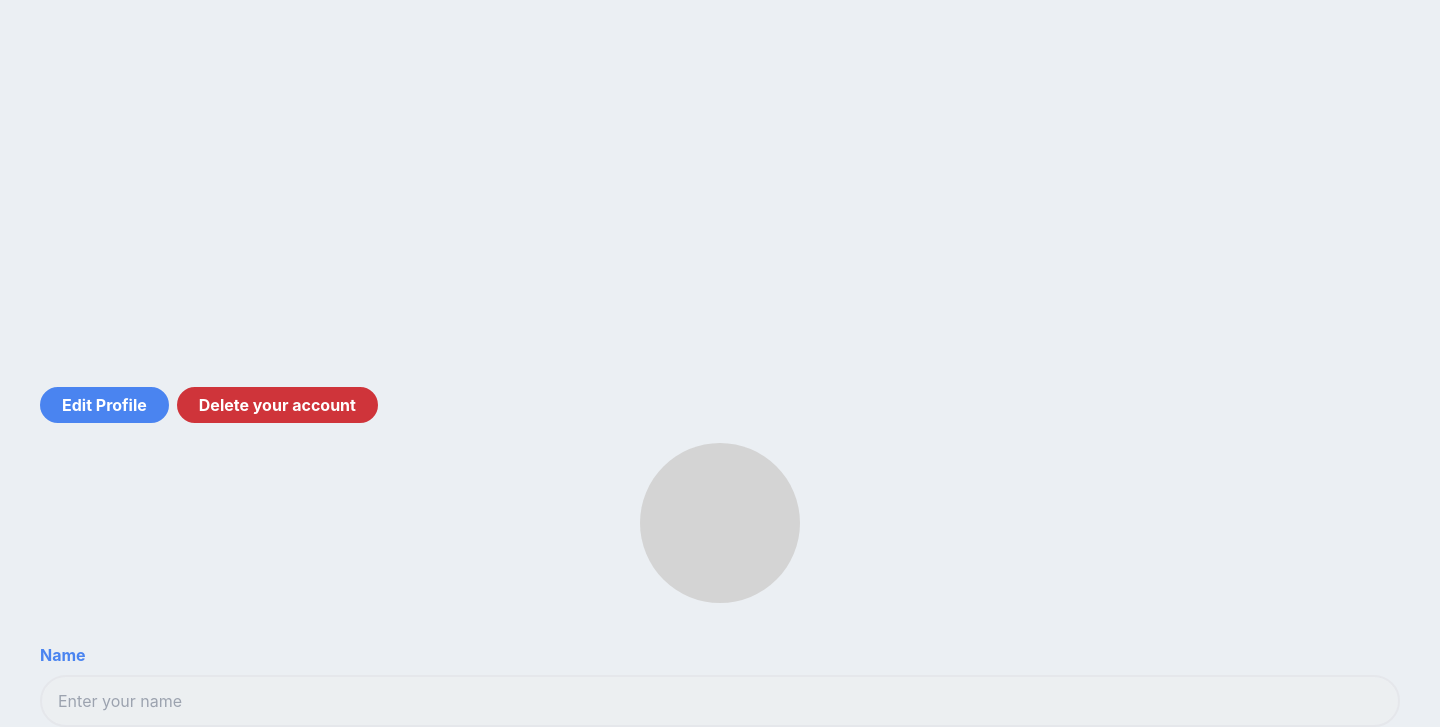
Test: Profile: Profile options: 'Edit profile' button › should change to 'dont save changes' if the edit button is clicked
(page scrolled)
Click the button "Edit Profile" at (104, 405), box [40,387,169,423]
(page scrolled)
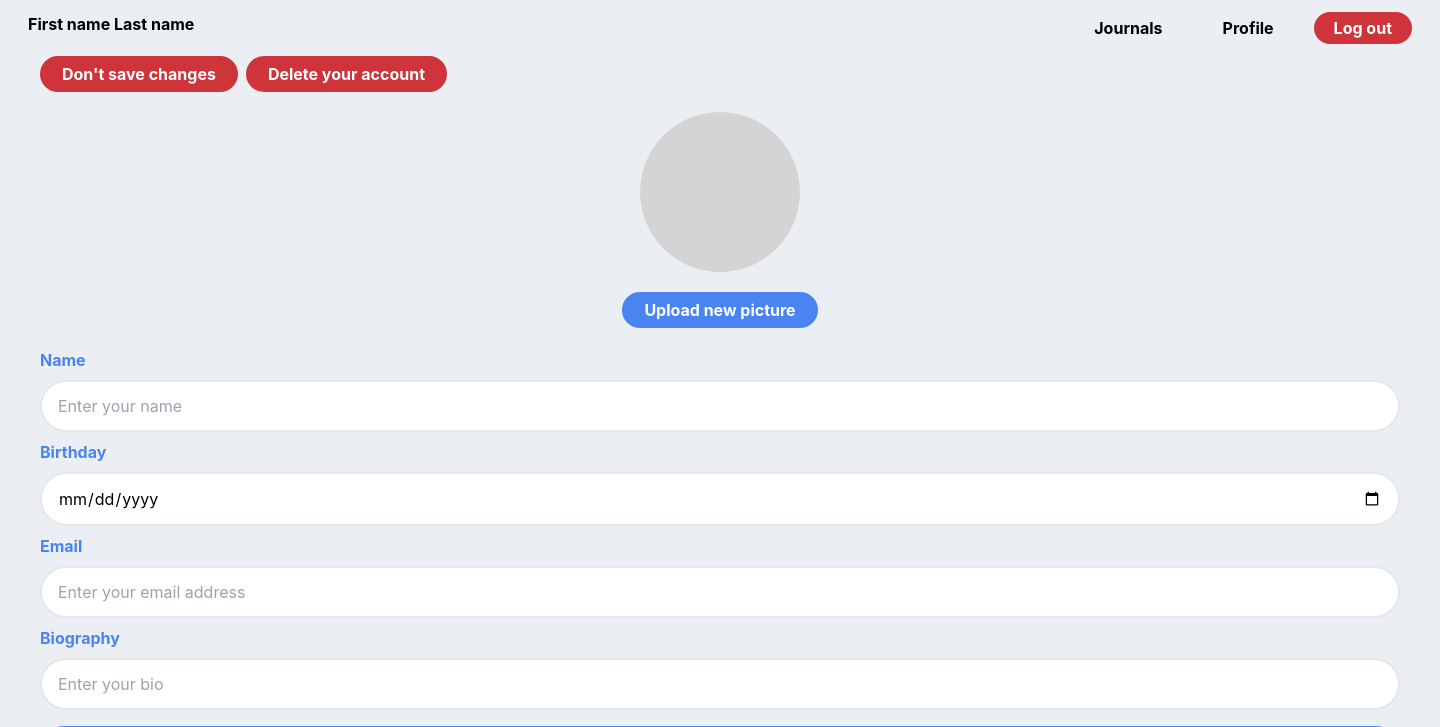
Result: the button "Don't save changes" is shown at [40,56,238,92]
